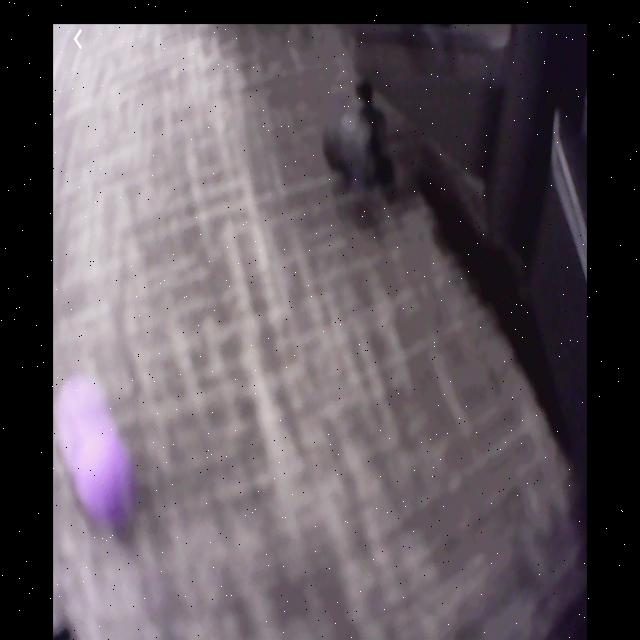ball: (76, 432, 136, 527)
